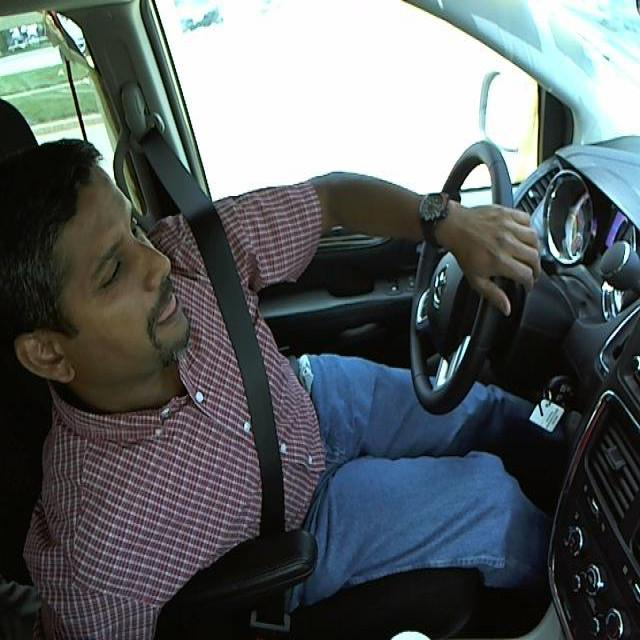seatbelt: (189, 242, 317, 570)
